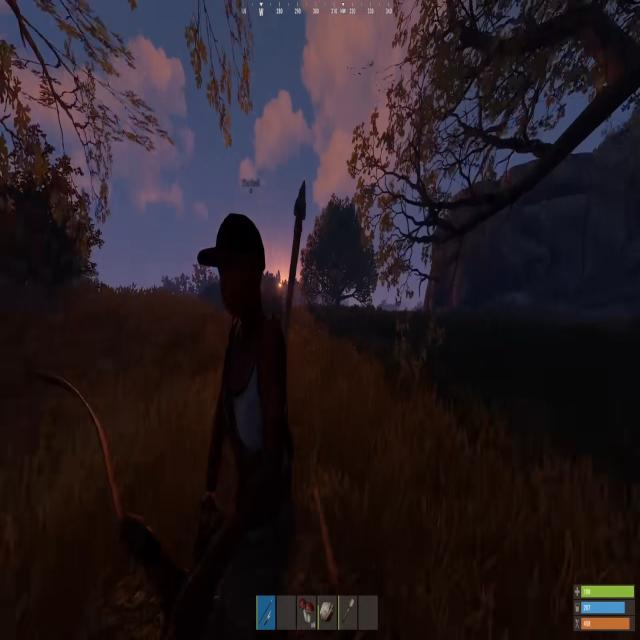Player: (187, 187, 301, 640)
